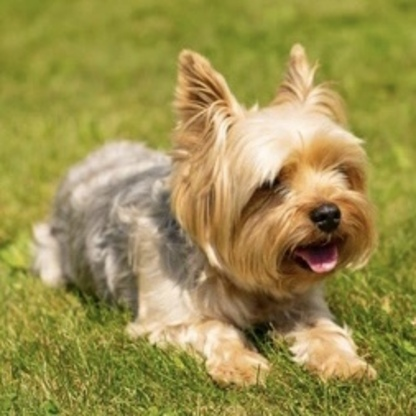yorkshire: (34, 41, 381, 387)
